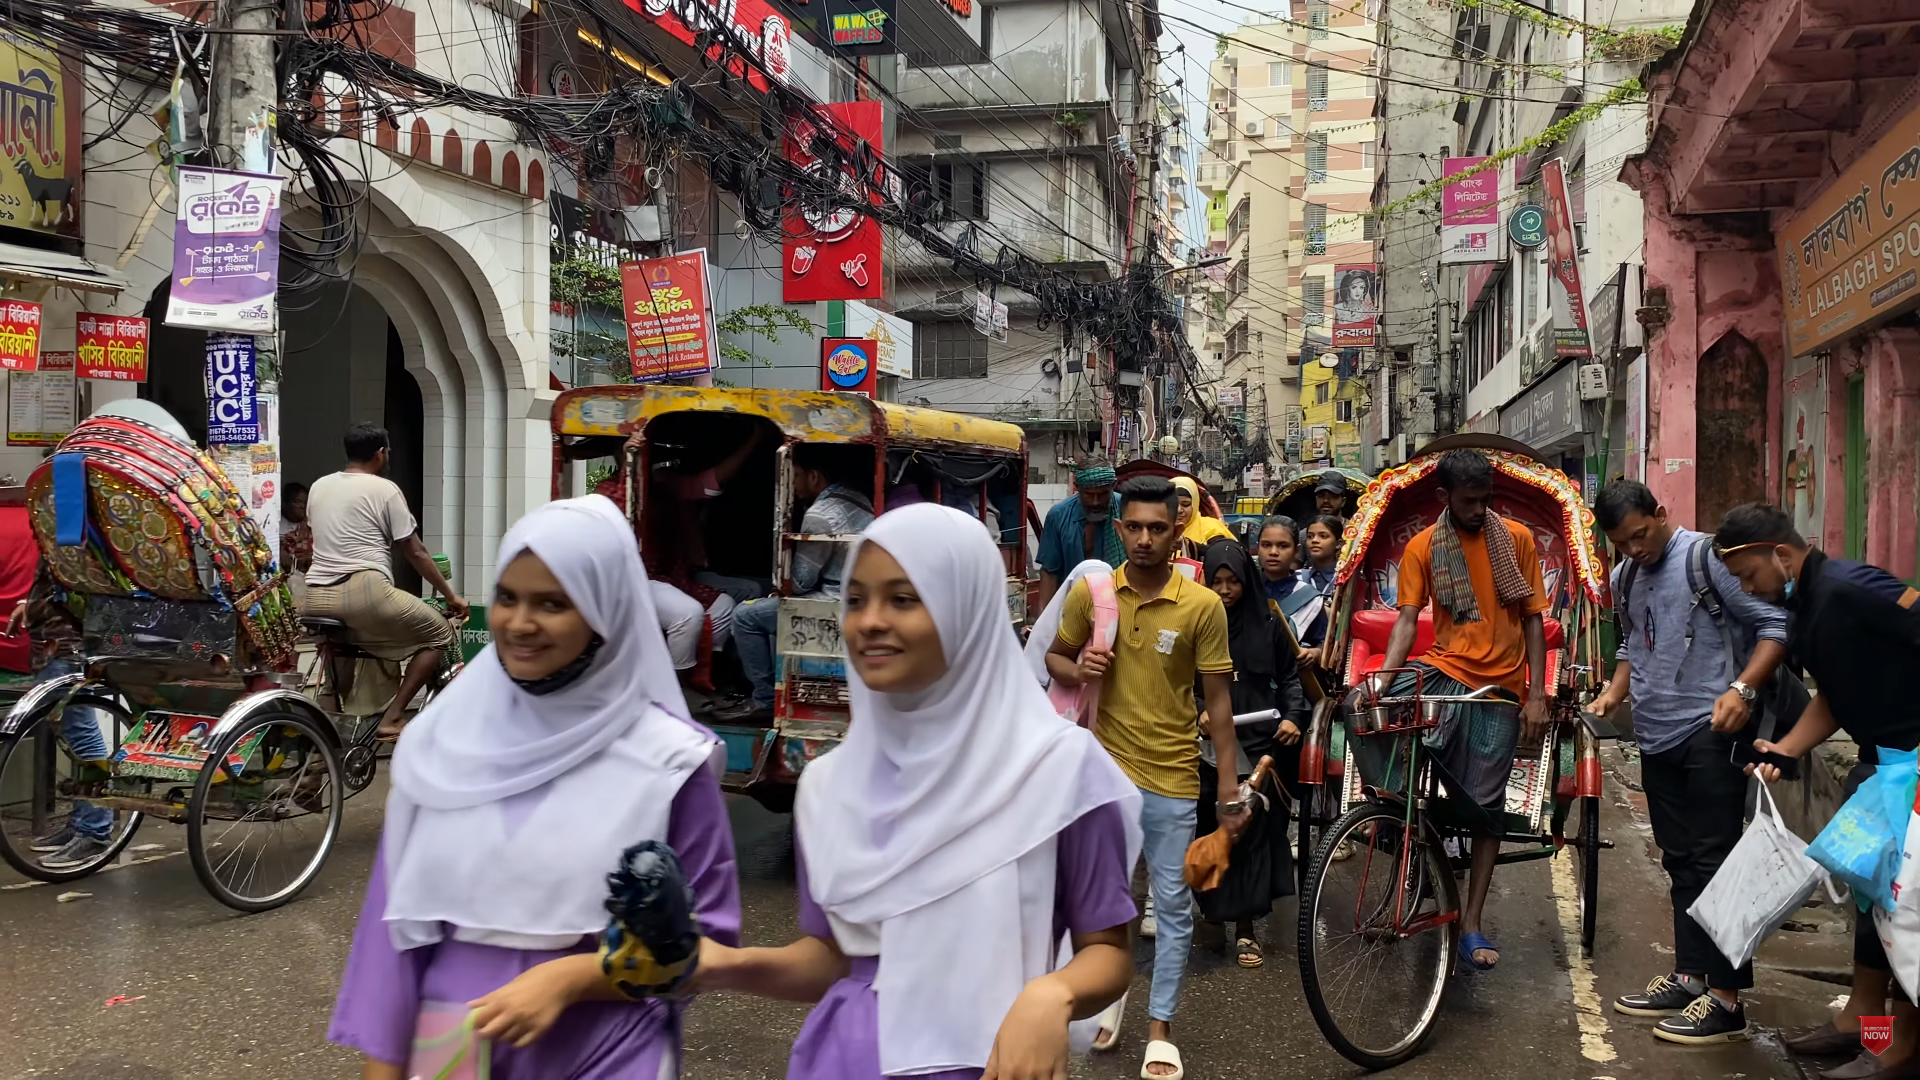Pedestrian: (331, 485, 735, 1072), (765, 503, 1136, 1080), (1701, 500, 1915, 1044)
Rickshaw: (1308, 436, 1605, 1045), (19, 398, 318, 896)
